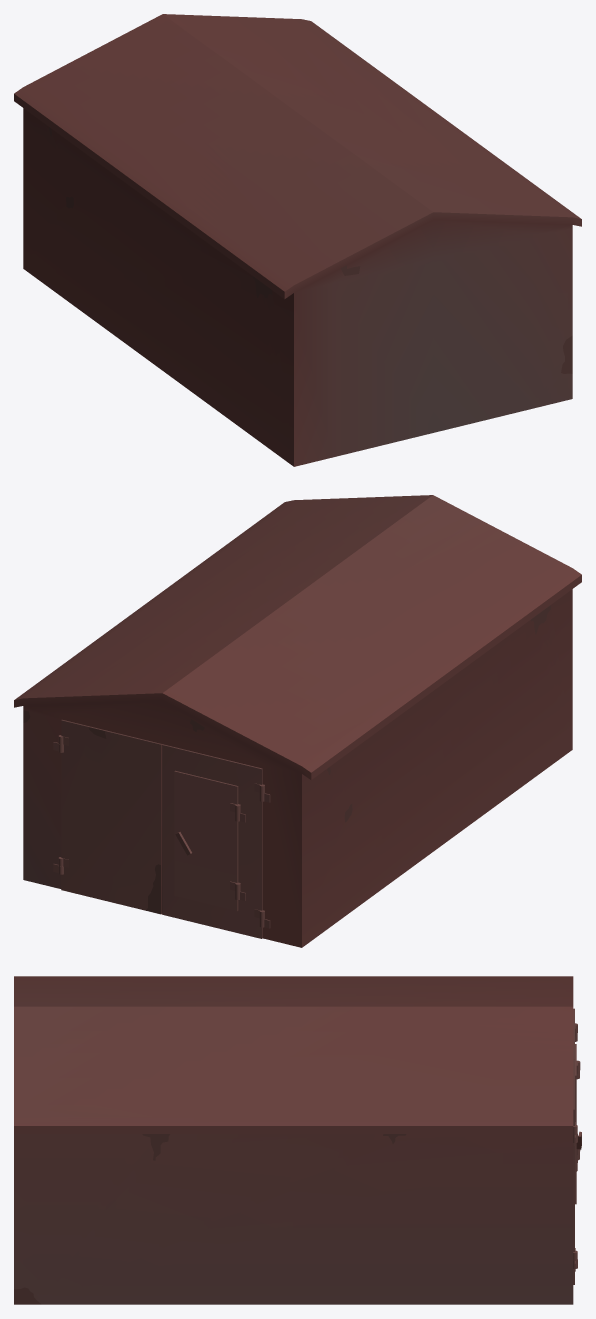
File: the garage is red.fbx
3 renders of one model, top to bottom at view 1: azimuth 30°, elevation 25°; view 2: azimuth 150°, elevation 25°; view 3: azimuth 270°, elevation 25°, orthographic. The views are drawn at different scales.
Visible parts, largest first — view 1: Cube.018; view 2: Cube.018; view 3: Cube.018.
Part boxes in pixels (x1,y1,x2,y2): Cube.018: (14, 14, 581, 466); Cube.018: (14, 495, 581, 947); Cube.018: (14, 976, 581, 1304).
Size of the model in its own units: 1529 by 1085 by 2450.
